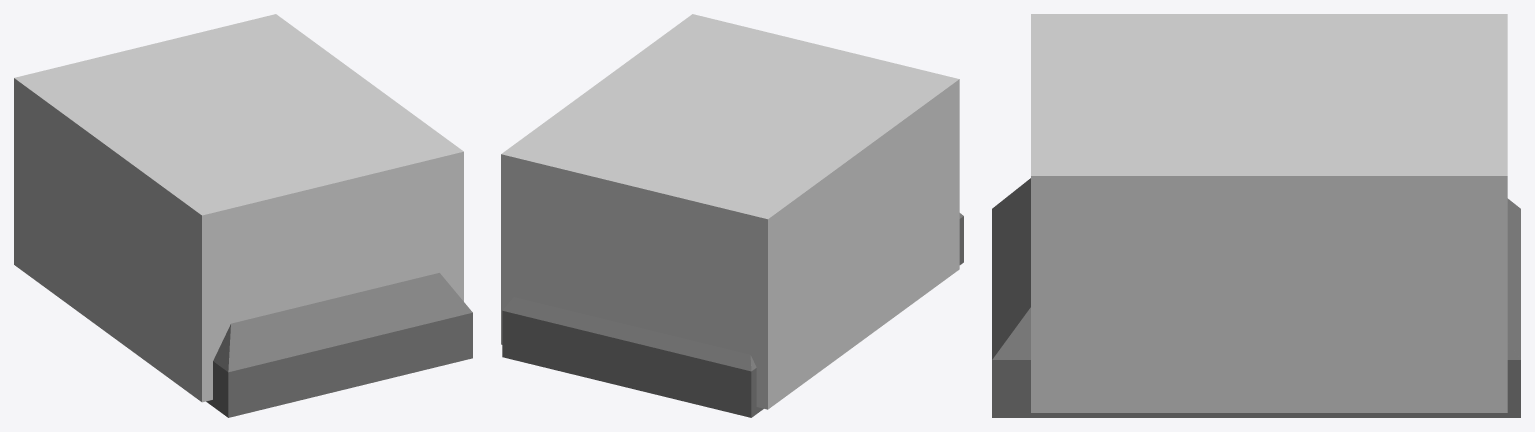
File: Bunker_small2.fbx
3 renders of one model, left to right at view 1: azimuth 30°, elevation 25°; view 2: azimuth 150°, elevation 25°; view 3: azimuth 270°, elevation 25°, orthographic. The views are drawn at different scales.
Parts seen in each view (by area): view 1: BB_BODY, Cube; view 2: BB_BODY, Cube; view 3: BB_BODY, Cube.
Part boxes in pixels (x1=…): BB_BODY: x1=14, y1=14, x2=463, y2=402; Cube: x1=206, y1=273, x2=472, y2=417; BB_BODY: x1=501, y1=14, x2=959, y2=409; Cube: x1=502, y1=213, x2=963, y2=417; BB_BODY: x1=1031, y1=14, x2=1507, y2=412; Cube: x1=992, y1=178, x2=1520, y2=417.
Bounding box in the file's own units: 1213 × 858 × 1673.
1 material, 1 textured.
